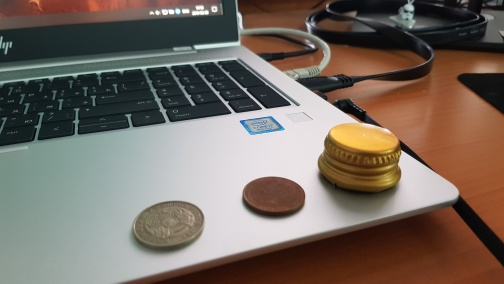coin: (132, 200, 205, 249), (242, 176, 306, 217)
